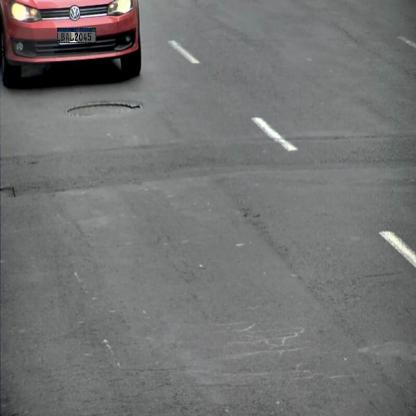PlacaM: (57, 28, 96, 43)
